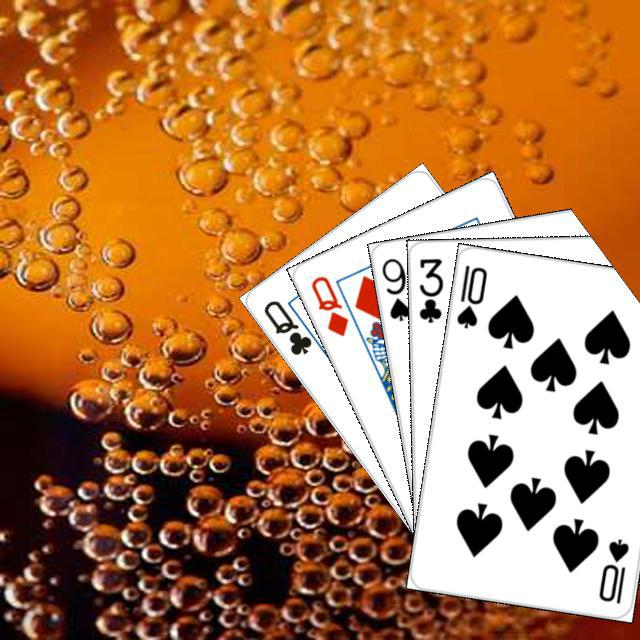10s: (593, 534, 631, 605), (451, 260, 489, 330)
3c: (414, 254, 445, 325)
9s: (376, 253, 412, 323)
Qc: (258, 294, 325, 358)
Qd: (305, 270, 351, 338)
